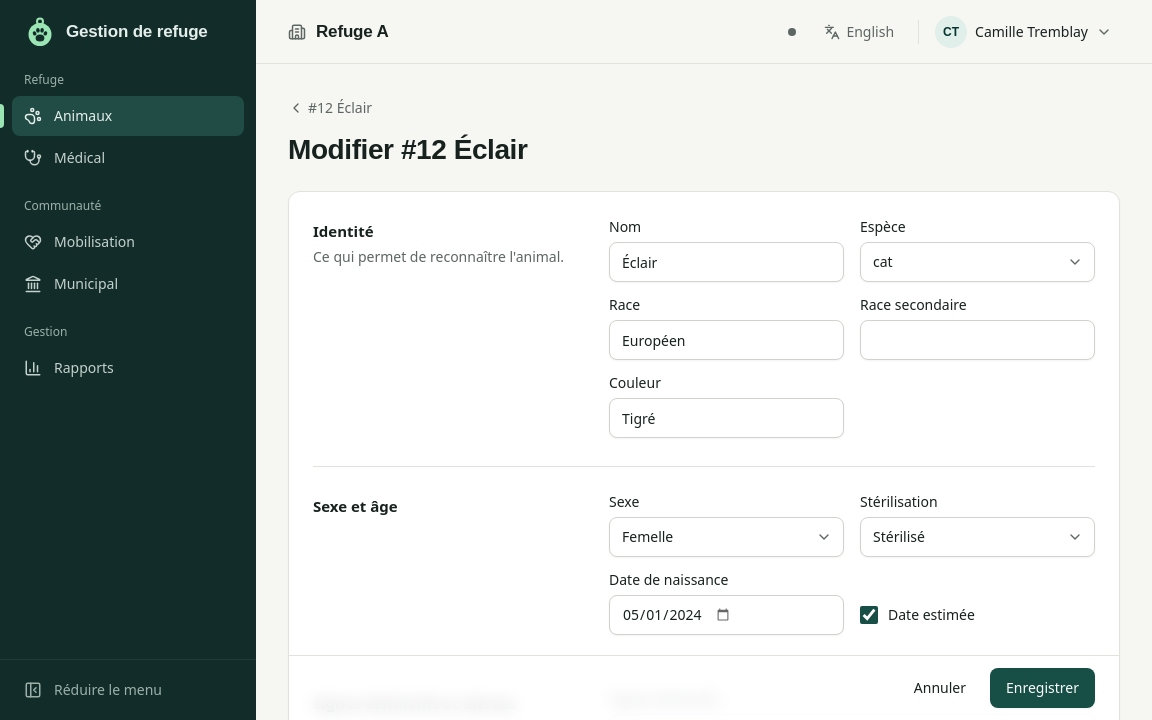
Scenario: animals › sends the version and reloads when someone else saved first
The width and height of the screenshot is (1152, 720).
Click the button "Enregistrer" at (1042, 688), box x1=990 y1=668 x2=1095 y2=708
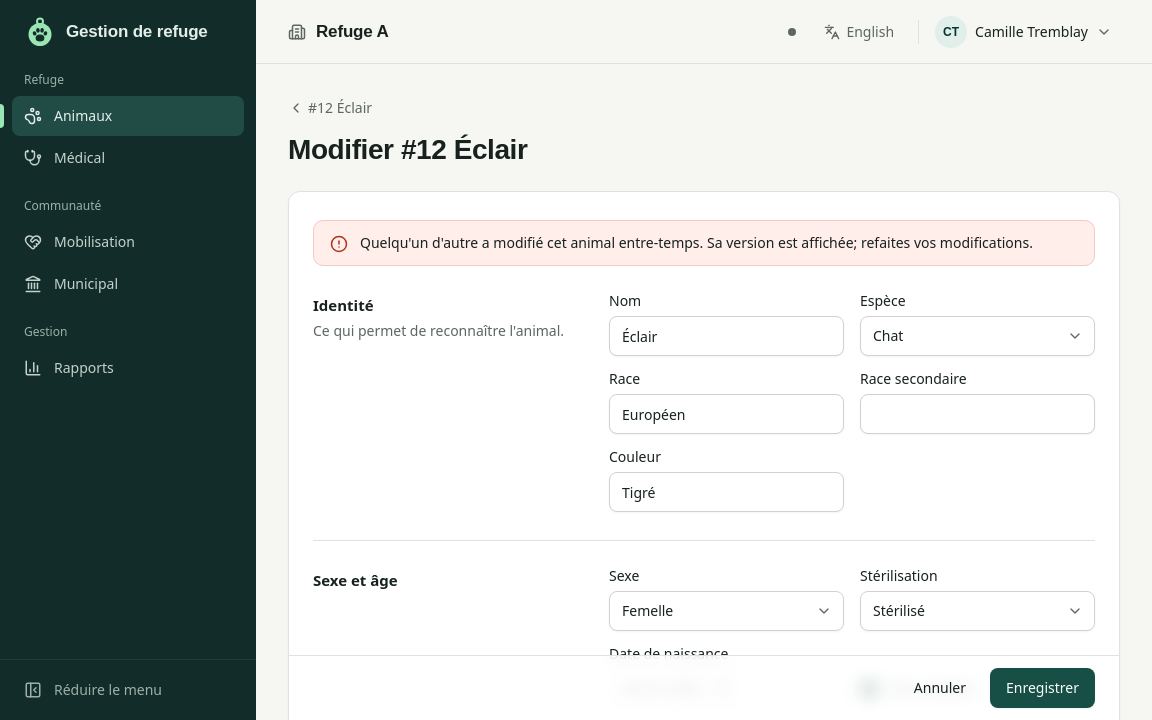
Check: the text "Quelqu'un d'autre a modifié cet animal" is shown, box x1=360 y1=233 x2=1033 y2=252
